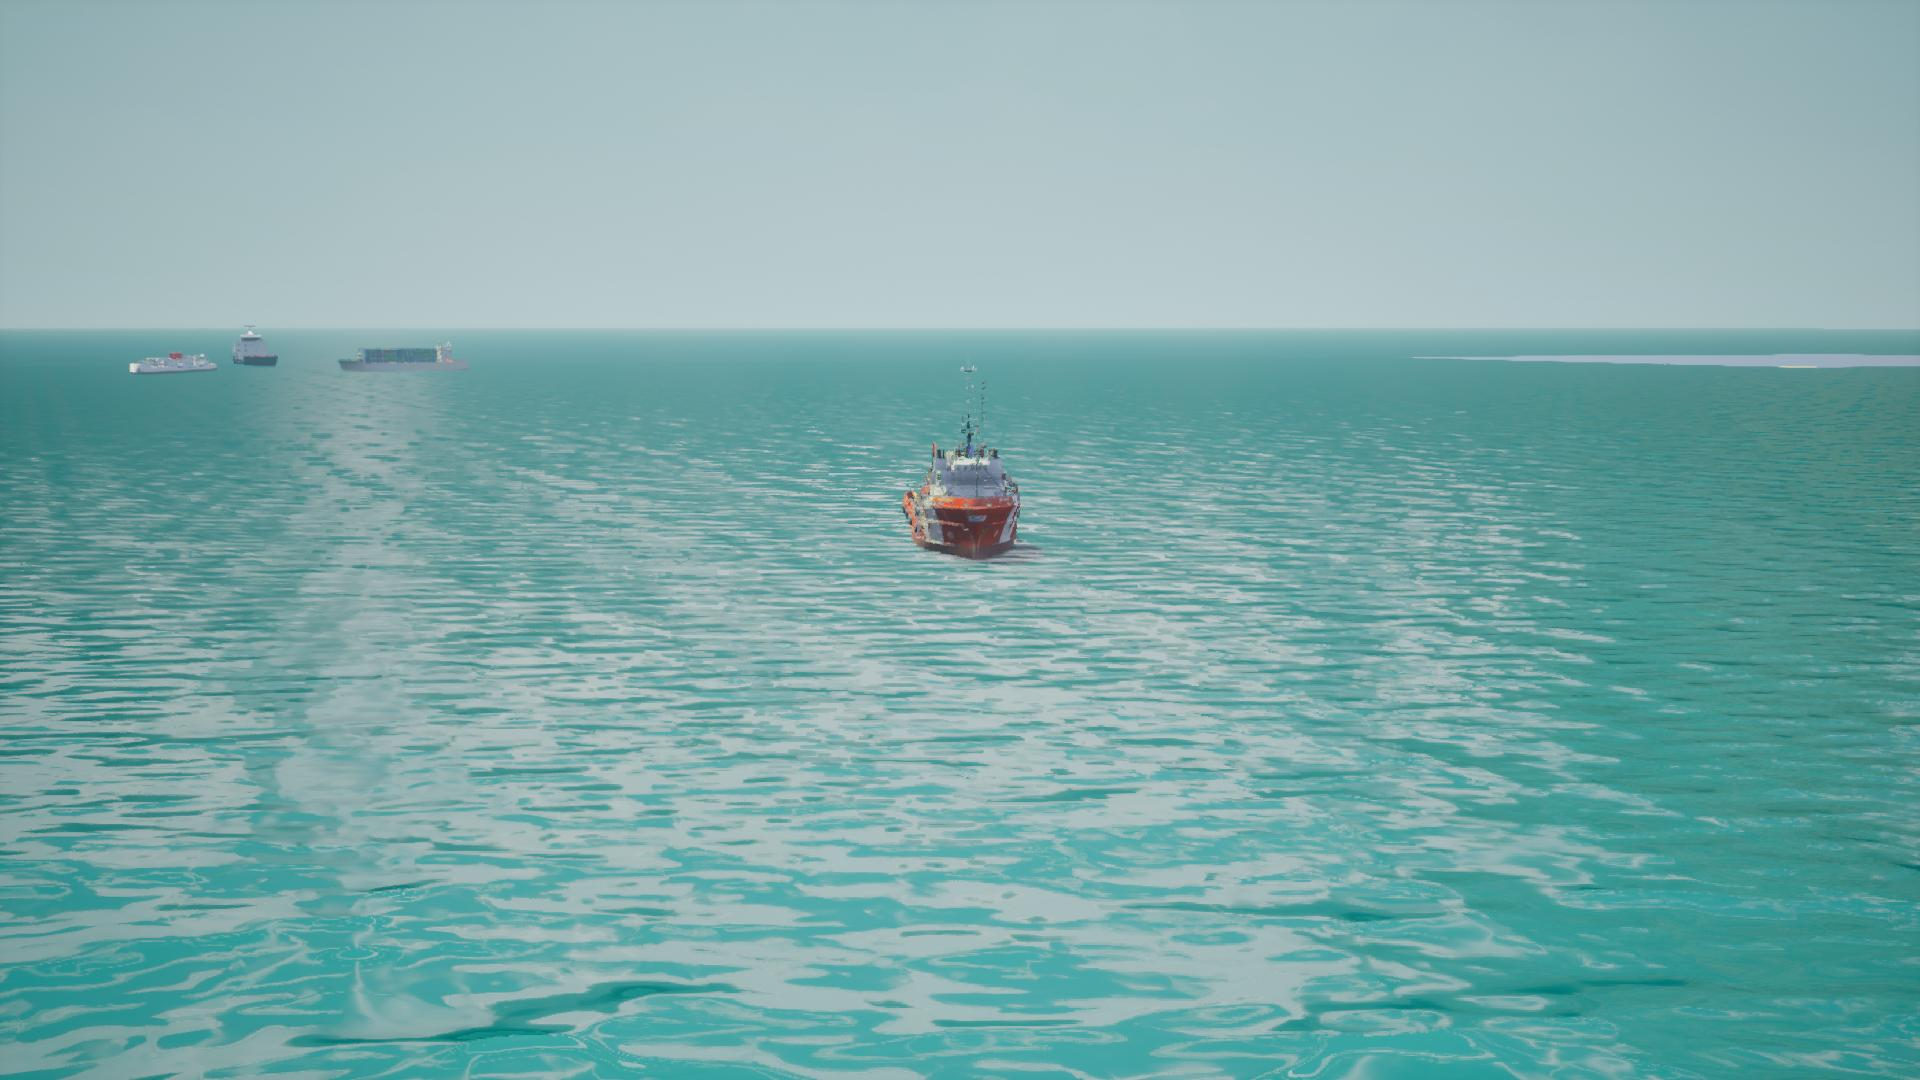Tug Boat: (903, 367, 1027, 562)
